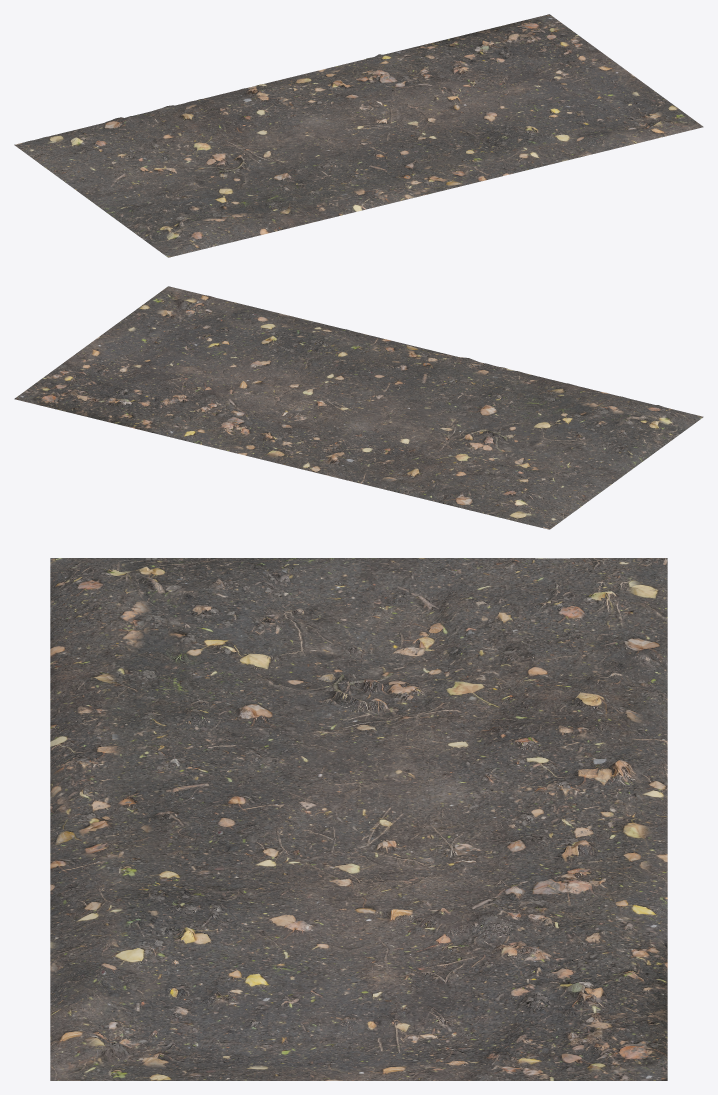
Rendered from sm_Ground_03_02.fbx.
3 views of the same model, one above another, from view 1: azimuth 30°, elevation 25°; view 2: azimuth 150°, elevation 25°; view 3: azimuth 270°, elevation 25° (orthographic). The views are drawn at different scales.
Parts seen in each view (by area): view 1: sm_Ground_03_02_LOD0; view 2: sm_Ground_03_02_LOD0; view 3: sm_Ground_03_02_LOD0.
Part boxes in pixels (box(x1,y1,x2,y2)): sm_Ground_03_02_LOD0: box(14, 14, 703, 257); sm_Ground_03_02_LOD0: box(14, 286, 703, 529); sm_Ground_03_02_LOD0: box(50, 558, 667, 1080).
Size of the model in its own units: 200 by 99.79 by 5.1.
